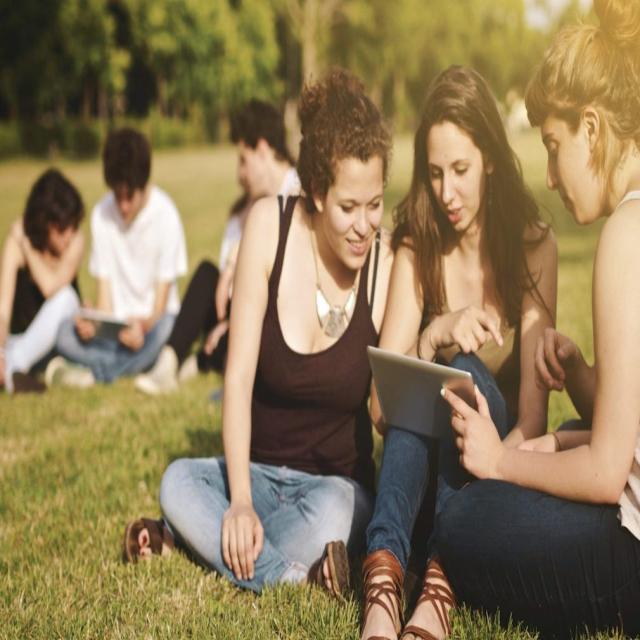body: (117, 60, 434, 615), (438, 0, 640, 639), (356, 56, 564, 639), (39, 127, 192, 396), (132, 144, 256, 398), (195, 98, 308, 373), (0, 166, 88, 394)
